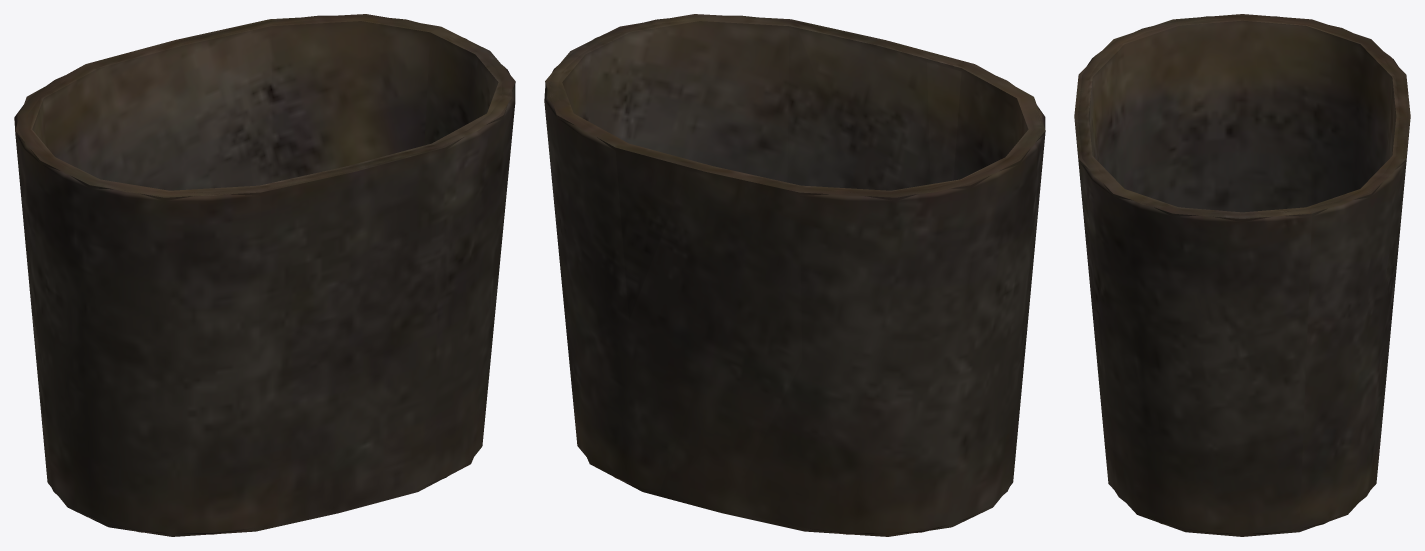
File: FirewoodBasket.glb
The picture shows the model from 3 angles, left to right: view 1: azimuth 30°, elevation 25°; view 2: azimuth 150°, elevation 25°; view 3: azimuth 270°, elevation 25°; orthographic projection. The views are drawn at different scales.
Parts seen in each view (by area): view 1: FirewoodBasket; view 2: FirewoodBasket; view 3: FirewoodBasket.
Boxes of the visible parts, left/top/right/bottom form: FirewoodBasket: left=14, top=14, right=515, bottom=536; FirewoodBasket: left=544, top=14, right=1045, bottom=536; FirewoodBasket: left=1074, top=14, right=1410, bottom=536.
Size of the model in its own units: 0.6269 by 0.4707 by 0.4346.
Materials: 1 (1 with a texture image).
